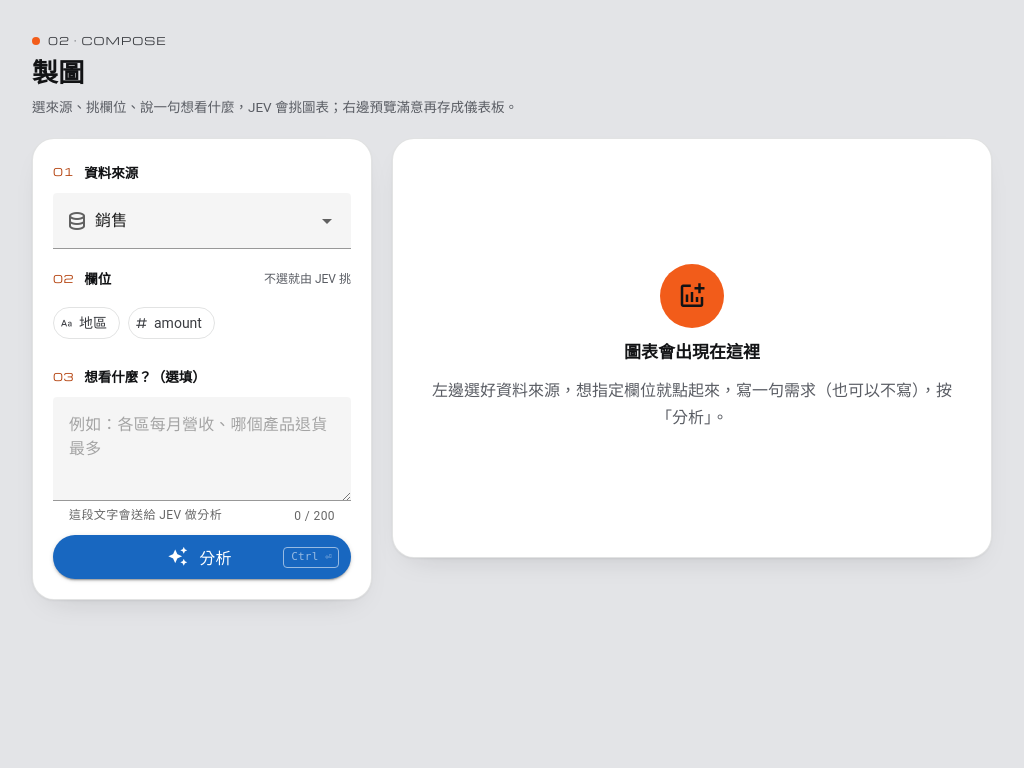
Test: ChartBuilder › while analyzing with no preview the canvas shows the scan with the source name
This screenshot has width=1024, height=768.
Click the button "分析 Ctrl ⏎" at (202, 557), box [53,535,351,579]
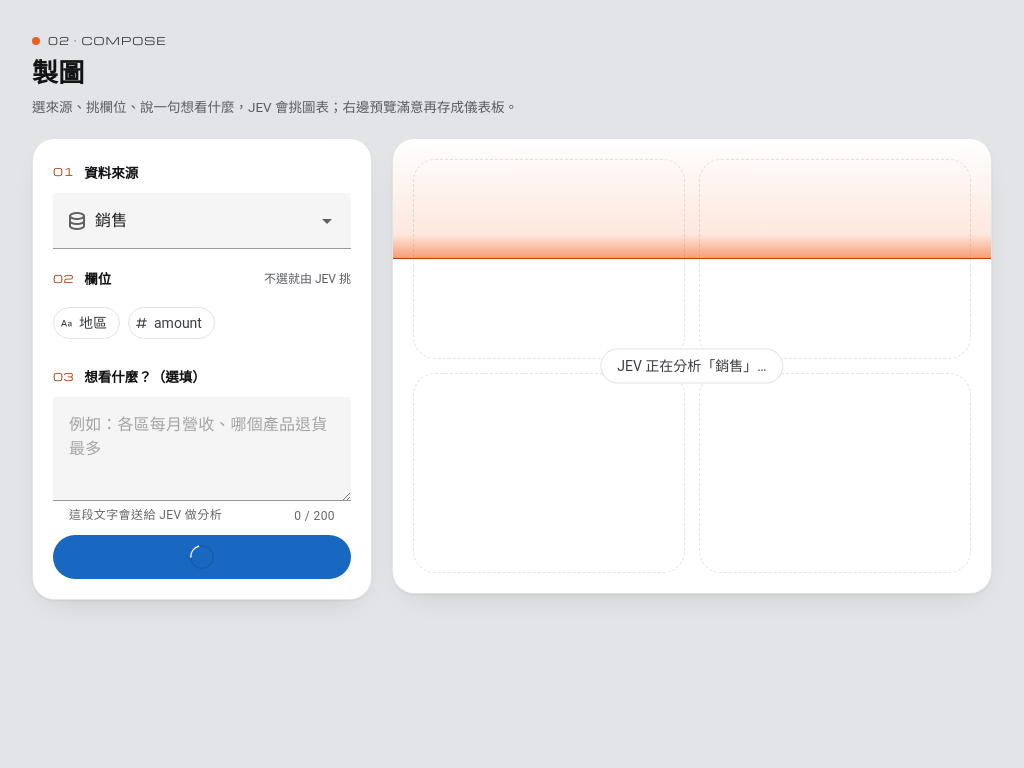
Now the element with class "cb-scan" reads "JEV 正在分析「銷售」…", box [617,357,767,373]
Now the button is disabled, box [53,535,351,579]
